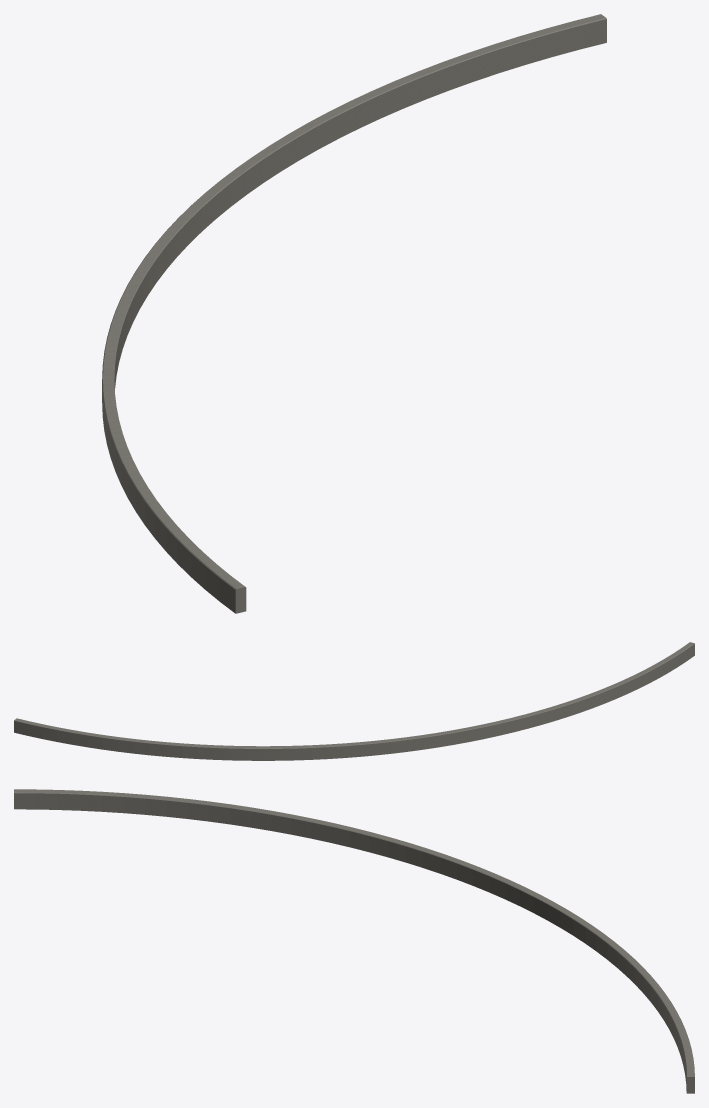
Rendered from OAR_Curb_Curve90_Outer_Left.fbx.
3 views of the same model, one above another, from view 1: azimuth 30°, elevation 25°; view 2: azimuth 150°, elevation 25°; view 3: azimuth 270°, elevation 25° (orthographic). The views are drawn at different scales.
Visible parts, largest first — view 1: Body; view 2: Body; view 3: Body.
Boxes of the visible parts, x1,y1,x2,y2 form: Body: (102, 14, 606, 613); Body: (14, 642, 694, 760); Body: (14, 789, 694, 1093).
Bounding box in the file's own units: 12.15 × 0.33 × 12.15.
